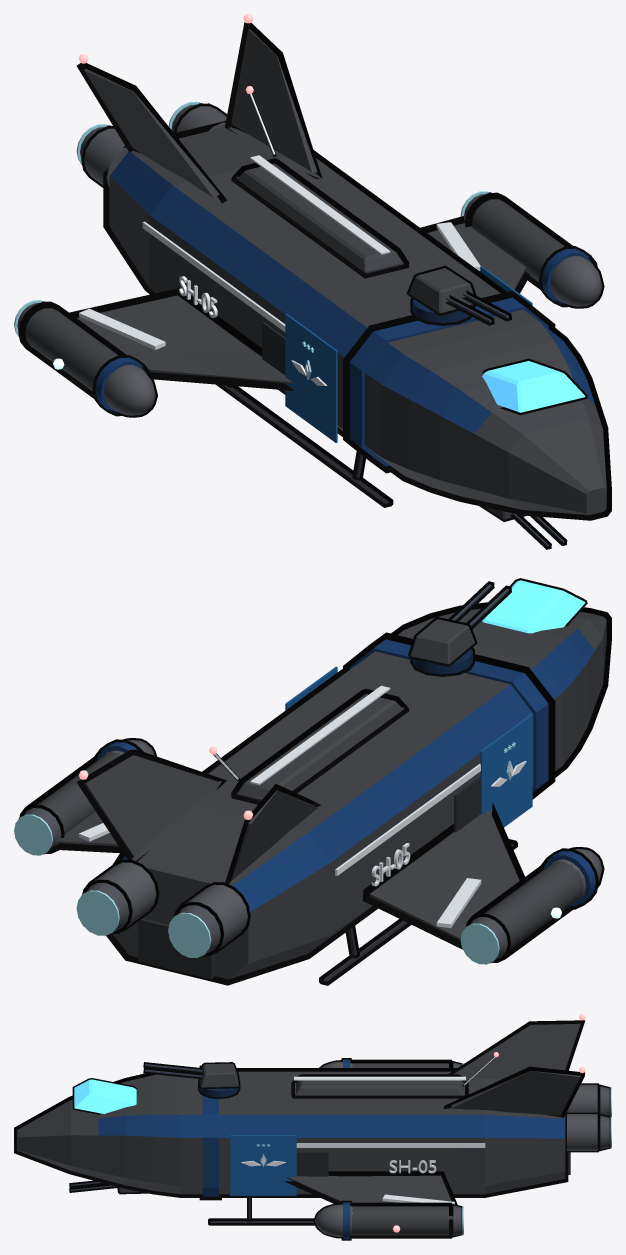
File: Shuttle_Military.fbx
3 views of the same model, one above another, from view 1: azimuth 30°, elevation 25°; view 2: azimuth 150°, elevation 25°; view 3: azimuth 270°, elevation 25° (orthographic). The views are drawn at different scales.
Visible parts, largest first — view 1: Hull, Wing-1, Fin1, Spine, Fin-1, Band, Pod-1_Body, EmbL, Pod1_Body, Canopy, Skid-1, Wing1 (+13 smaller); view 2: Hull, Wing-1, Fin1, Spine, Band, Pod-1_Body, EmbL, Canopy, Fin-1, TurretD_House, Ramp, Pod1_Body (+20 smaller); view 3: Hull, Fin-1, Fin1, Wing1, EmbR, Spine, Pod1_Body, Canopy, Band, Main1_Body, TurretD_House, Stripe1 (+15 smaller).
Part boxes in pixels (x1,y1,x2,y2): Hull: (103,120,611,520); Wing-1: (69,288,294,390); Fin1: (225,22,322,179); Spine: (231,158,409,278); Fin-1: (76,63,226,203); Band: (343,290,555,473); Pod-1_Body: (18,301,144,411); EmbL: (285,313,337,442); Pod1_Body: (465,192,590,302); Canopy: (482,358,587,415); Skid-1: (216,384,393,507); Wing1: (420,216,530,293); Hull: (106,602,611,985); Wing-1: (362,802,524,949); Fin1: (76,749,226,861); Spine: (231,688,409,804); Band: (343,632,555,799); Pod-1_Body: (466,860,583,962); EmbL: (480,714,532,827); Canopy: (482,578,587,633); Fin-1: (225,784,320,884); TurretD_House: (408,617,477,666); Ramp: (138,918,213,979); Pod1_Body: (19,751,120,853); Hull: (14,1068,568,1197); Fin-1: (448,1020,584,1079); Fin1: (443,1066,585,1118); Wing1: (284,1171,462,1224); EmbR: (230,1135,296,1195); Spine: (291,1074,468,1098); Pod1_Body: (341,1202,451,1238); Canopy: (72,1078,137,1114); Band: (199,1065,221,1200); Main1_Body: (565,1112,598,1152); TurretD_House: (198,1062,240,1088); Stripe1: (296,1143,485,1147).
Size of the model in its own units: 13.88 by 6.52 by 21.57.
